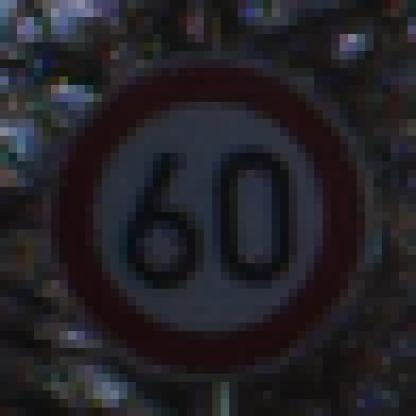Speed Limit 60: (72, 69, 343, 359)
